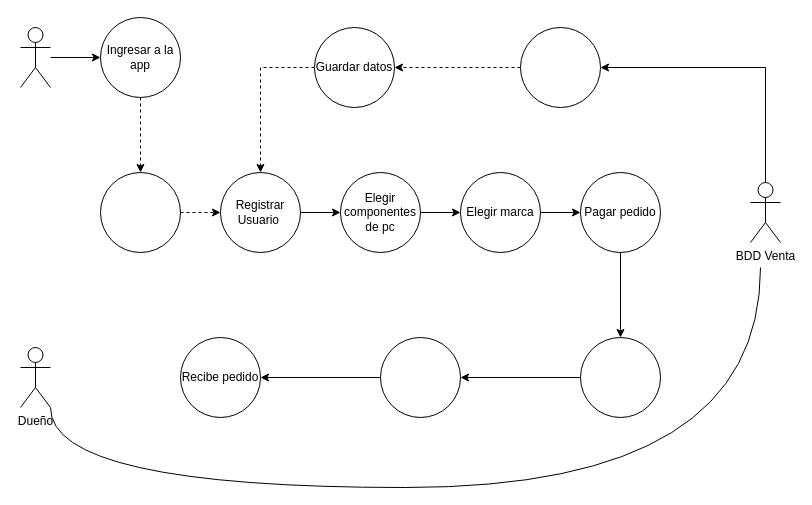
This 812x505 diagram has some shape labels left out. The centre of each missing label's shape, as x and y in pixels:
"Cliente" belongs at point (35, 57).
"Controla pago" belongs at point (620, 377).
"Entrega factura" belongs at point (420, 377).
"Recorrer la app" belongs at point (140, 212).
"Verificar la información" belongs at point (560, 67).
